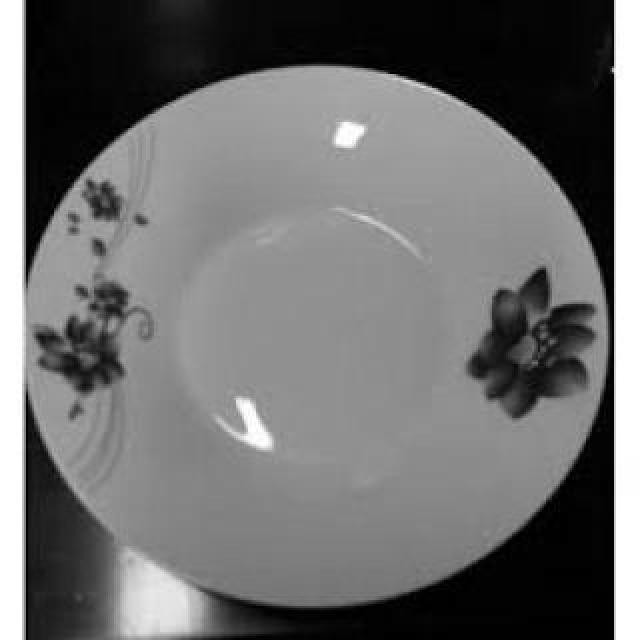plate: (22, 40, 612, 620)
